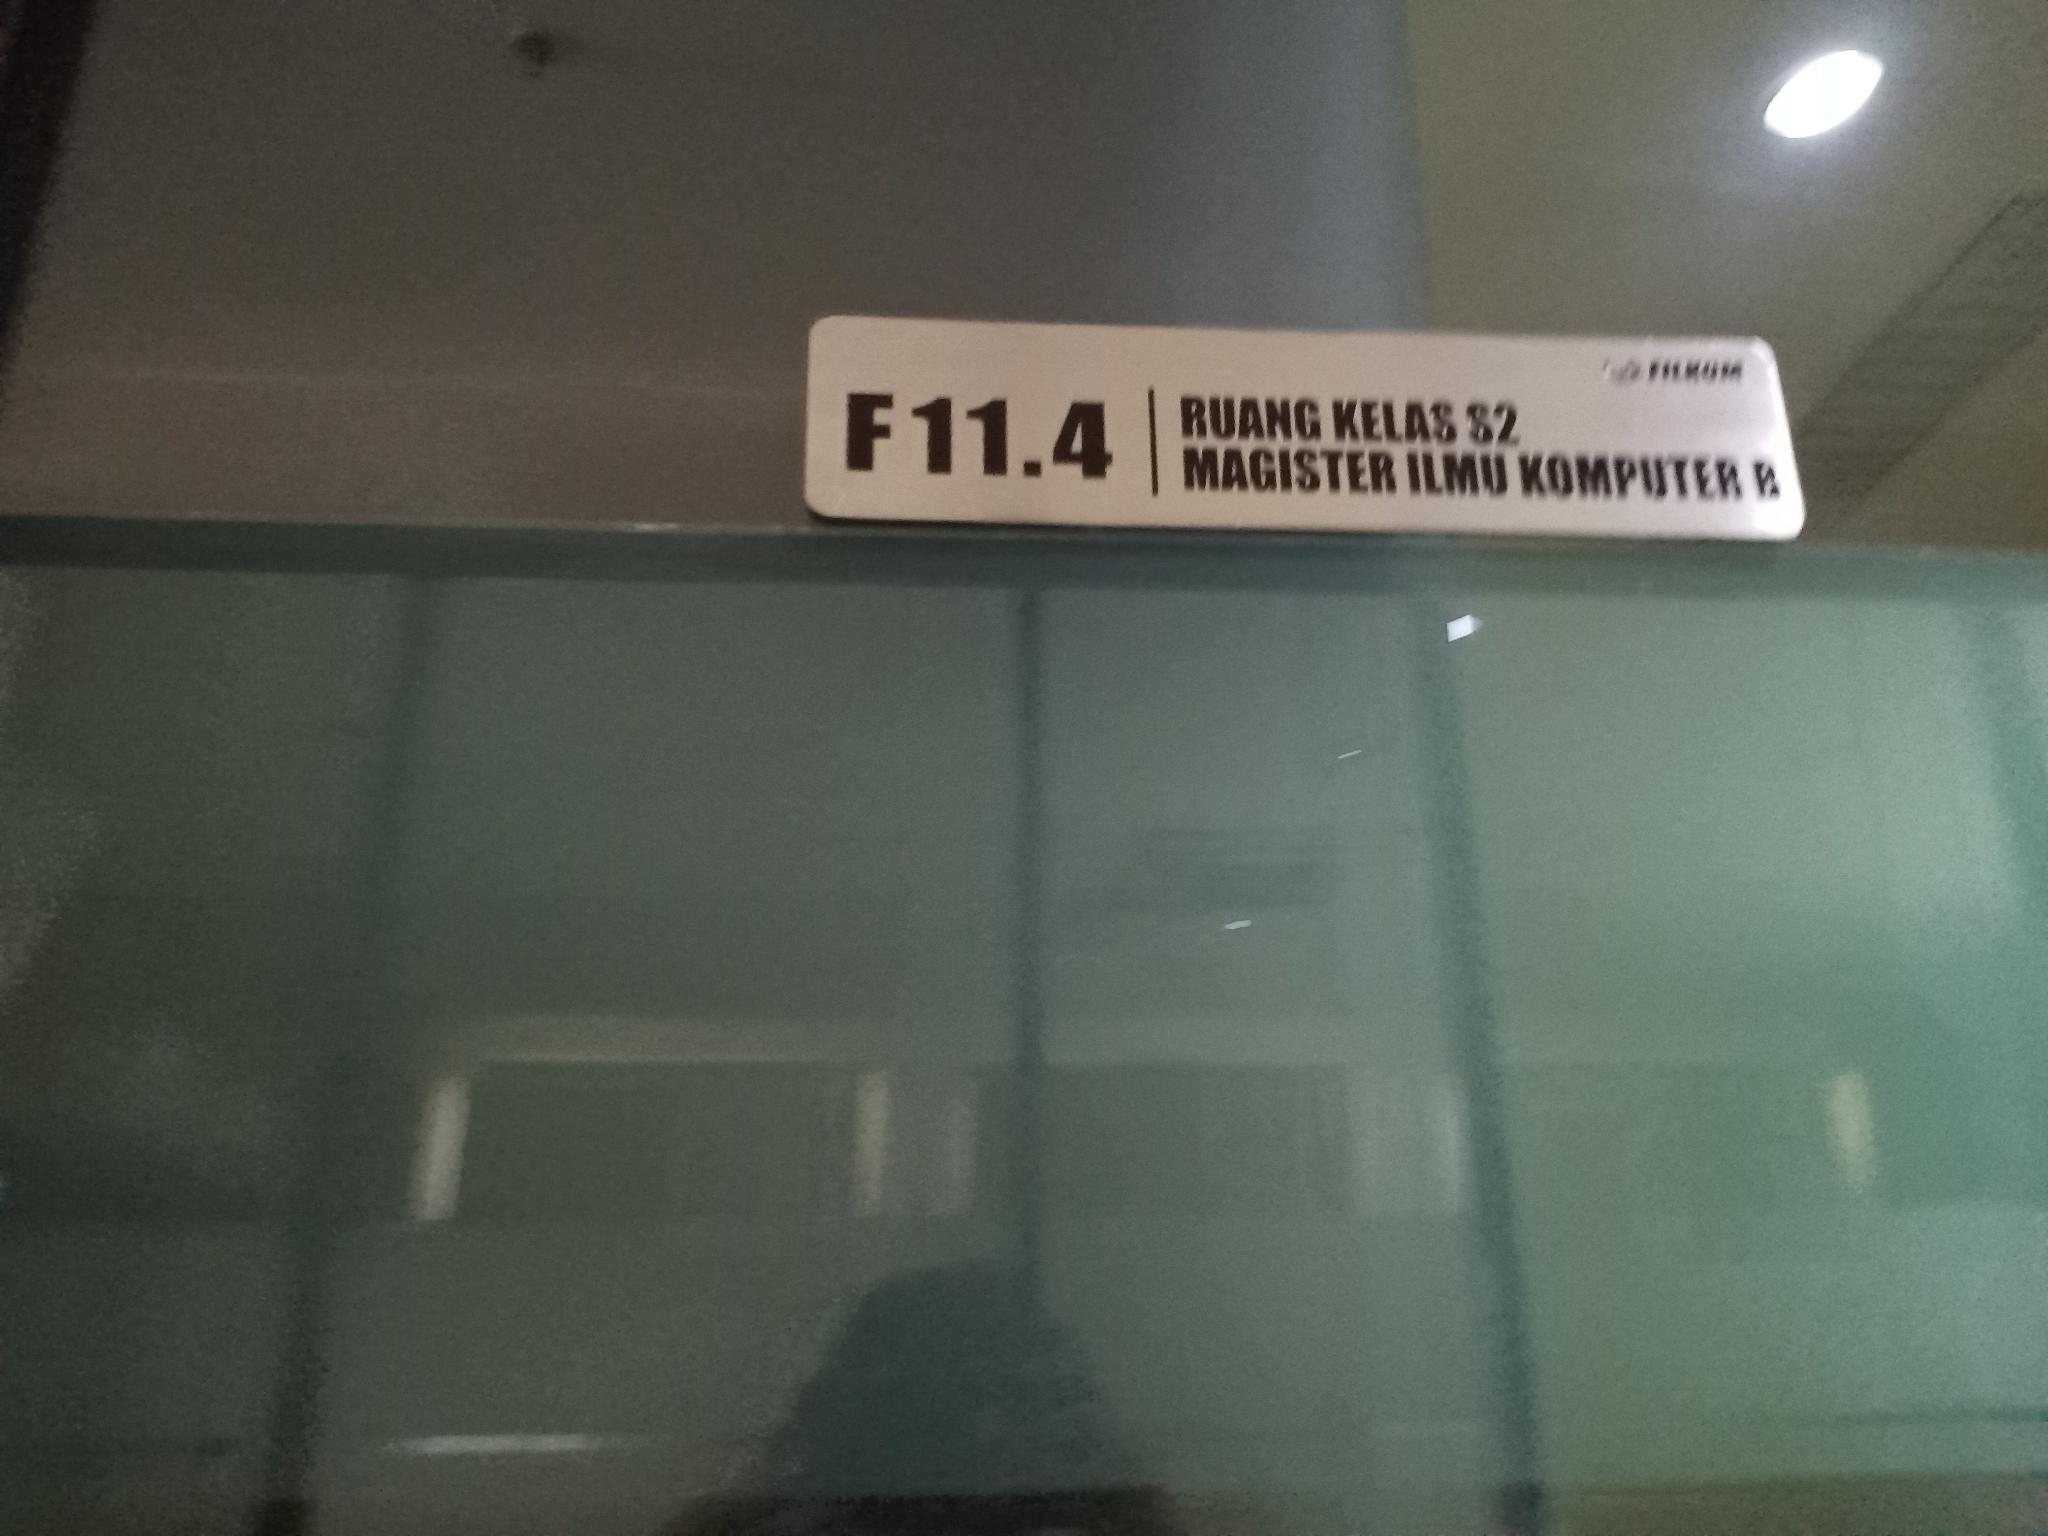plate: (792, 311, 1808, 536)
